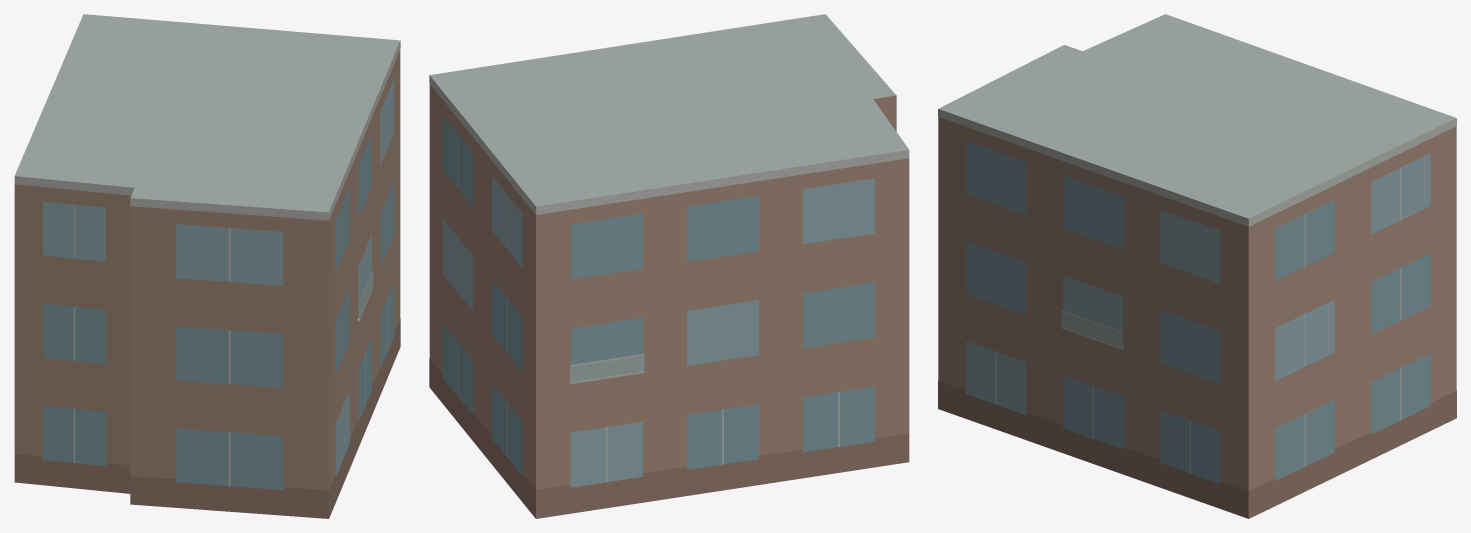
File: survey-upis-32786722.glb
The picture shows the model from 3 angles, left to right: view 1: azimuth 30°, elevation 25°; view 2: azimuth 150°, elevation 25°; view 3: azimuth 270°, elevation 25°; orthographic projection. The views are drawn at different scales.
Parts seen in each view (by area): view 1: survey-upis-32786722.tmp; view 2: survey-upis-32786722.tmp; view 3: survey-upis-32786722.tmp.
Part boxes in pixels (x1,y1,x2,y2): survey-upis-32786722.tmp: (14, 14, 400, 518); survey-upis-32786722.tmp: (429, 14, 909, 518); survey-upis-32786722.tmp: (938, 14, 1456, 518).
Size of the model in its own units: 13.4 by 9.15 by 14.34.
